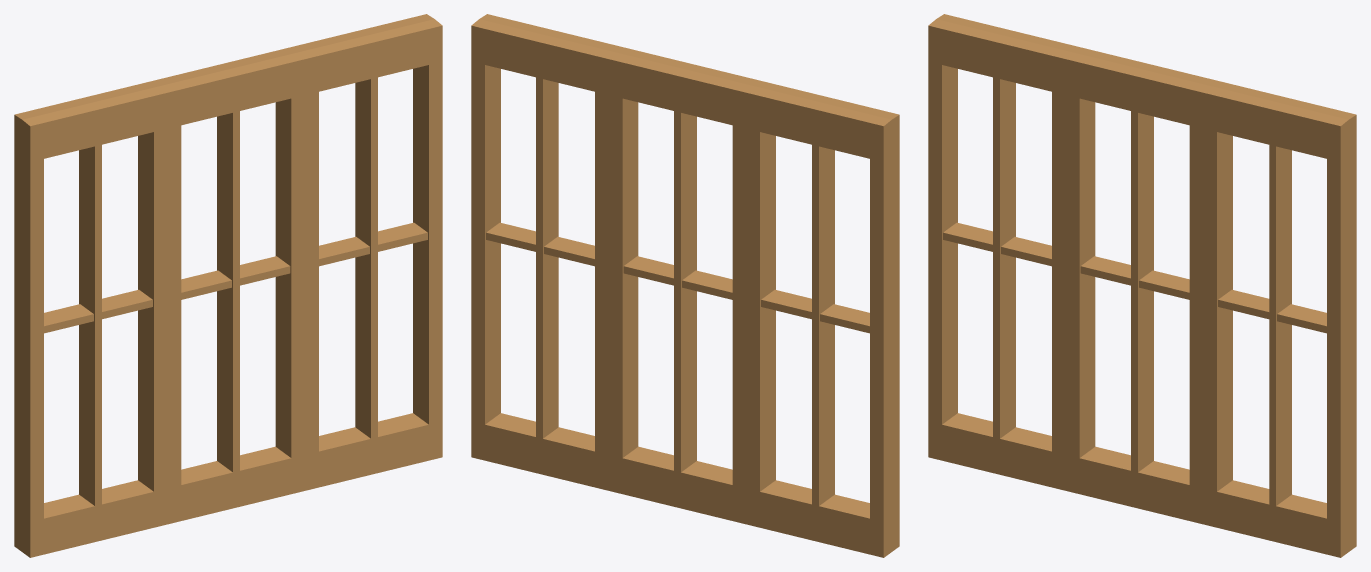
File: buildings_house-wall-construction-3x3m.fbx
3 views of the same model, side by side, from view 1: azimuth 30°, elevation 25°; view 2: azimuth 150°, elevation 25°; view 3: azimuth 330°, elevation 25° (orthographic).
Visible parts, largest first — view 1: buildings_house_wall_construction_3x3m; view 2: buildings_house_wall_construction_3x3m; view 3: buildings_house_wall_construction_3x3m.
Part boxes in pixels (left/top/right/bottom): buildings_house_wall_construction_3x3m: left=14, top=14, right=442, bottom=557; buildings_house_wall_construction_3x3m: left=471, top=14, right=899, bottom=557; buildings_house_wall_construction_3x3m: left=928, top=14, right=1356, bottom=557.
Bounding box in the file's own units: 200 × 200 × 13.31.
